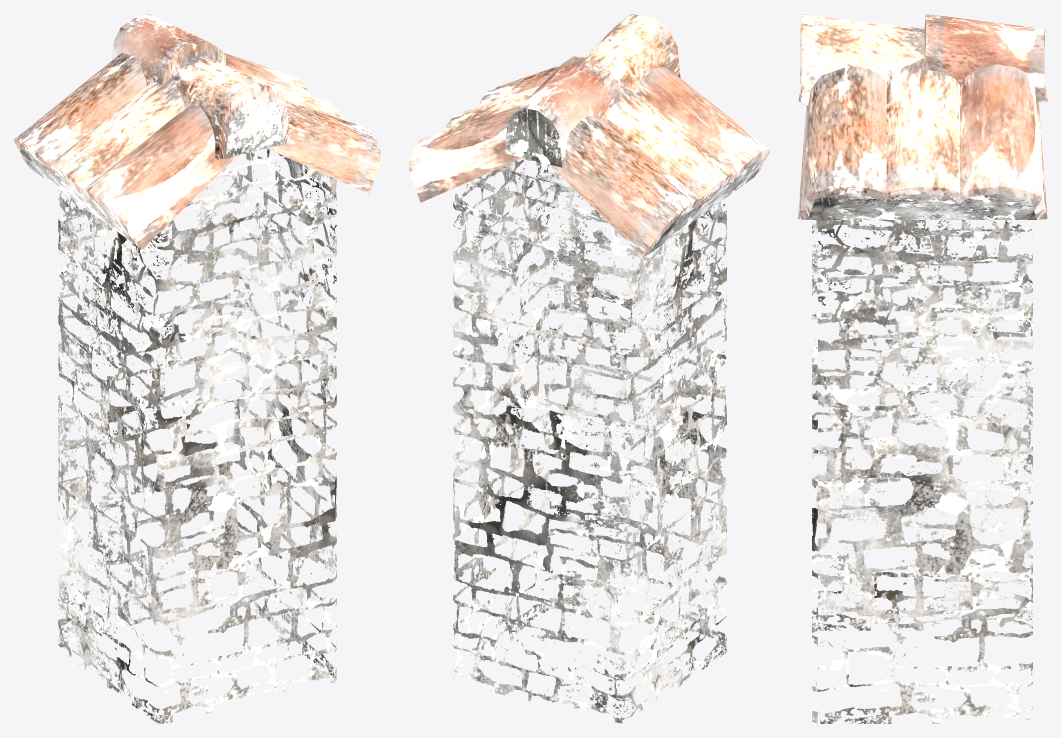
File: SM_fence_03_01.fbx
The picture shows the model from 3 angles, left to right: view 1: azimuth 30°, elevation 25°; view 2: azimuth 150°, elevation 25°; view 3: azimuth 270°, elevation 25°; orthographic projection. The views are drawn at different scales.
Visible parts, largest first — view 1: SM_fence_03_01_LOD0; view 2: SM_fence_03_01_LOD0; view 3: SM_fence_03_01_LOD0.
Part boxes in pixels (bbox=[...]): SM_fence_03_01_LOD0: bbox=[14, 14, 380, 723]; SM_fence_03_01_LOD0: bbox=[409, 14, 769, 723]; SM_fence_03_01_LOD0: bbox=[798, 14, 1047, 723].
Size of the model in its own units: 113 by 84.86 by 247.
3 materials, 3 textured.
